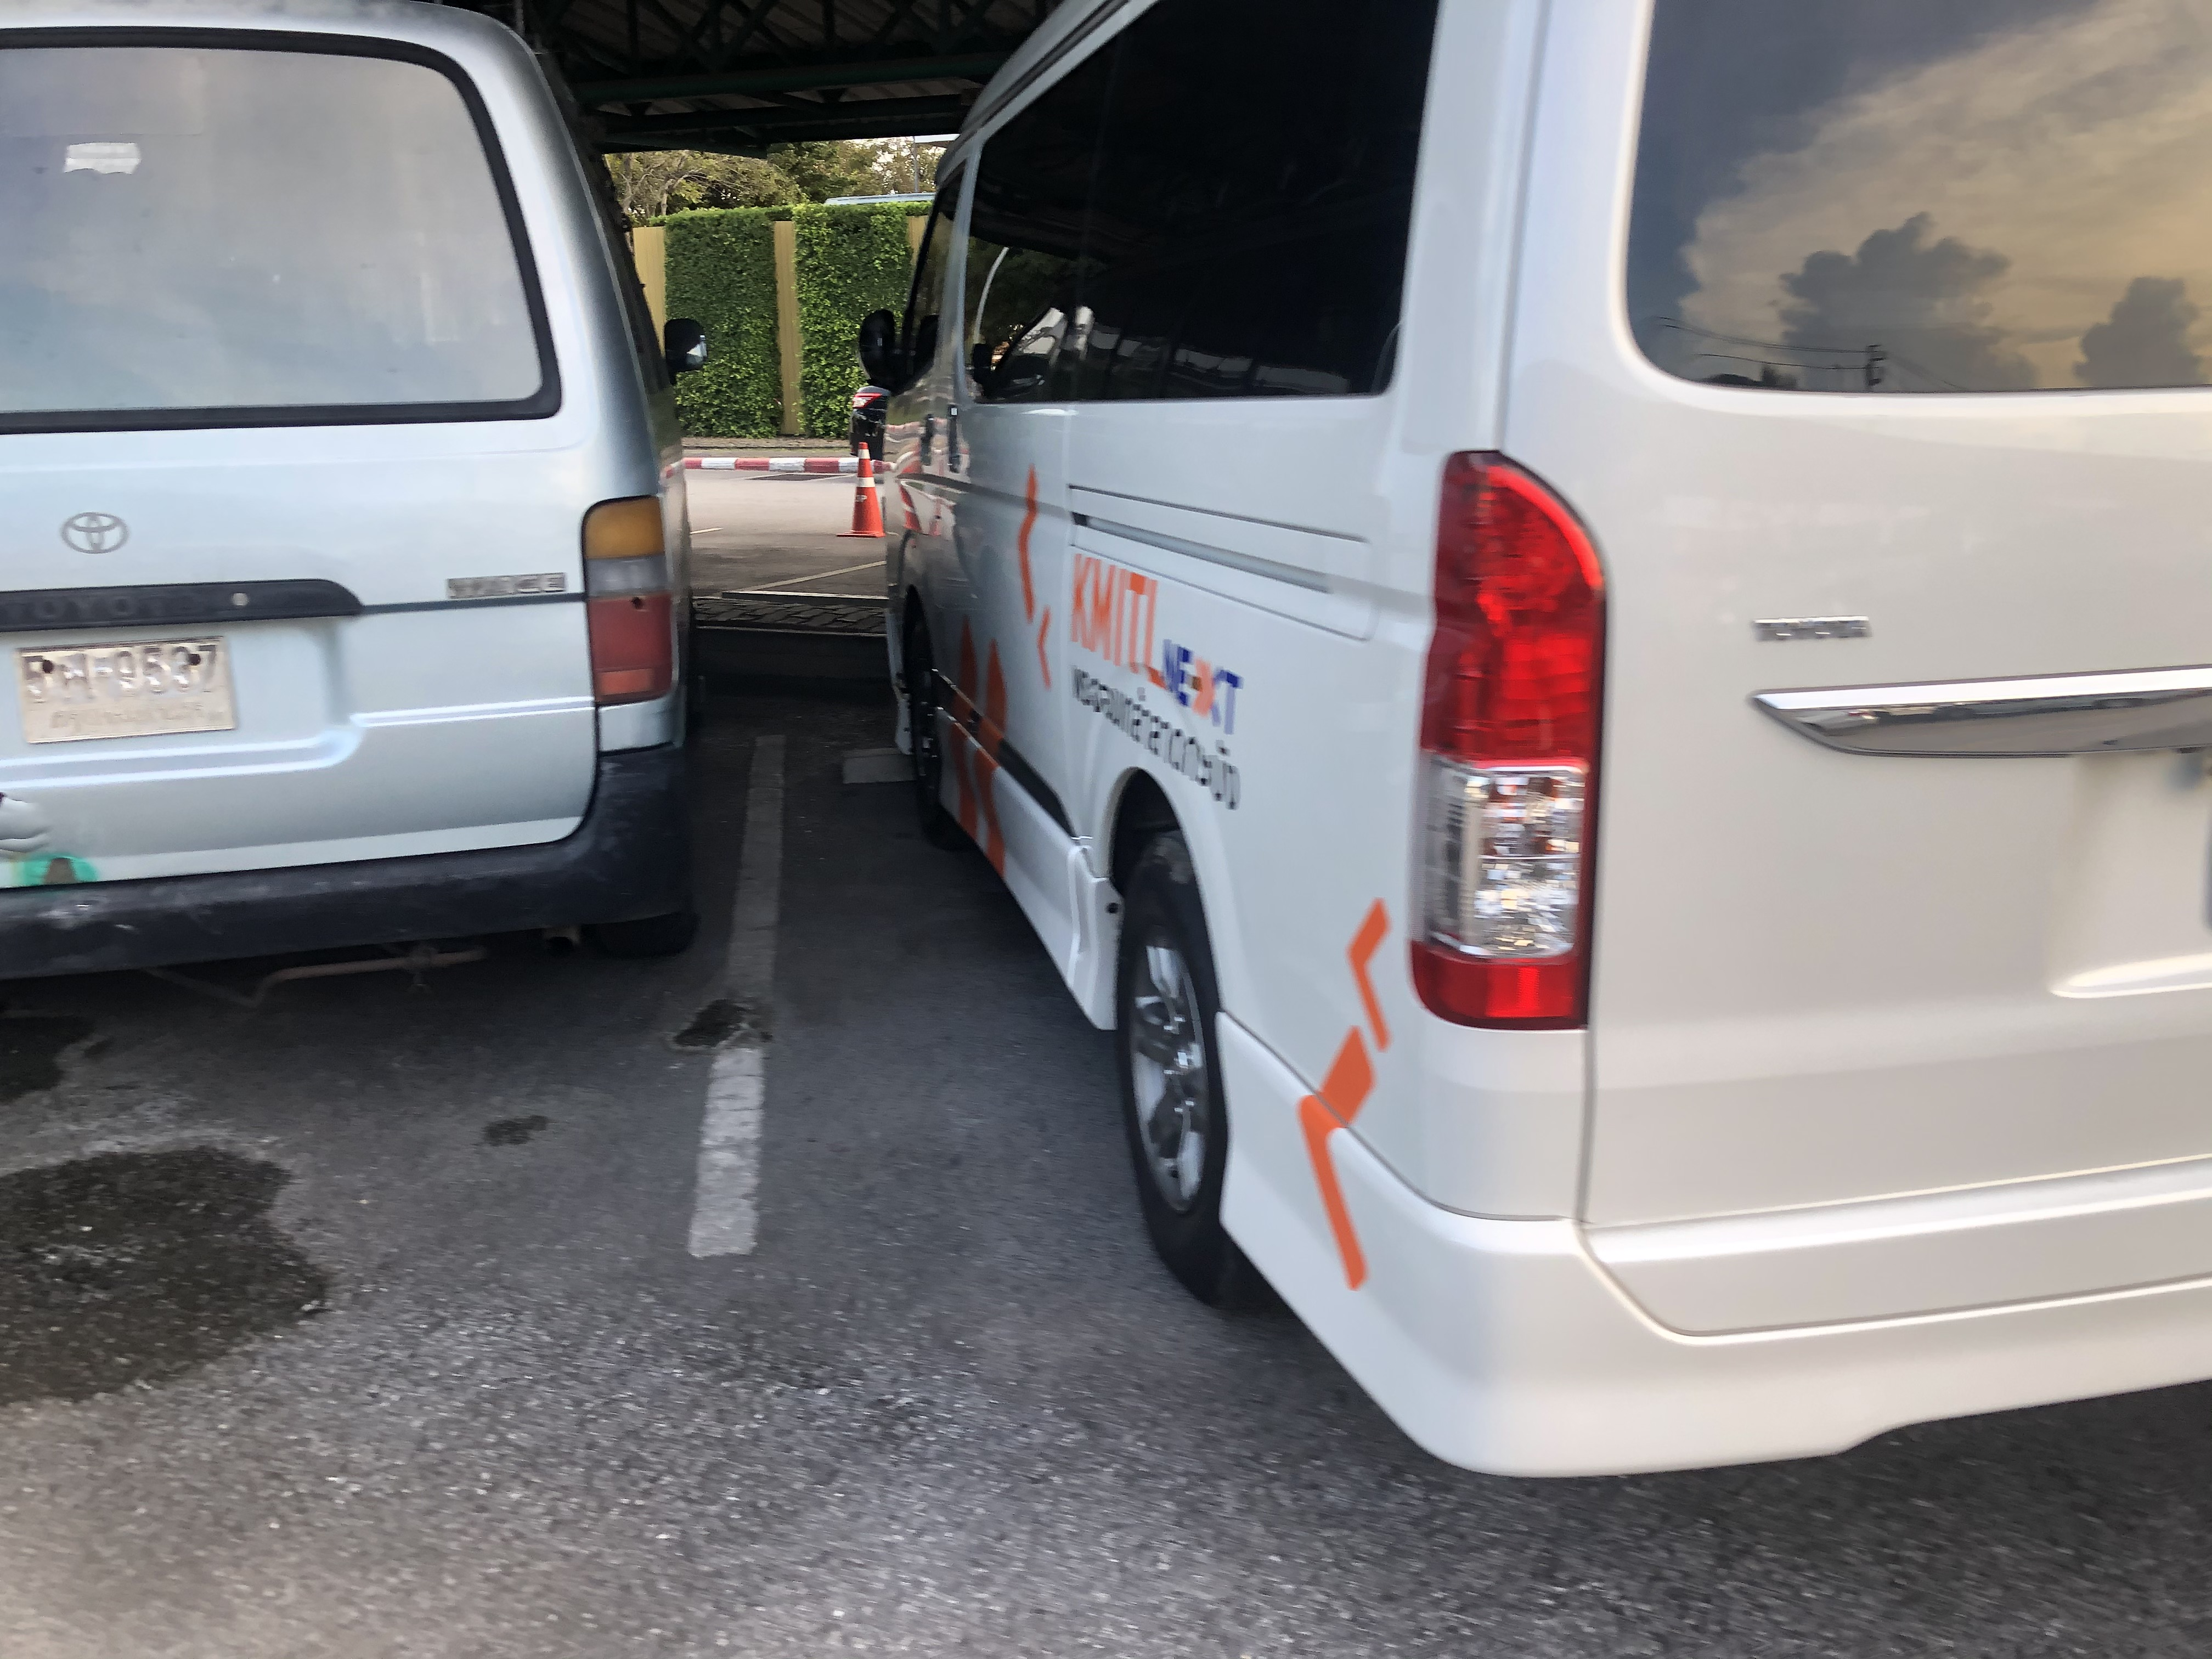in: (16, 634, 237, 741)
